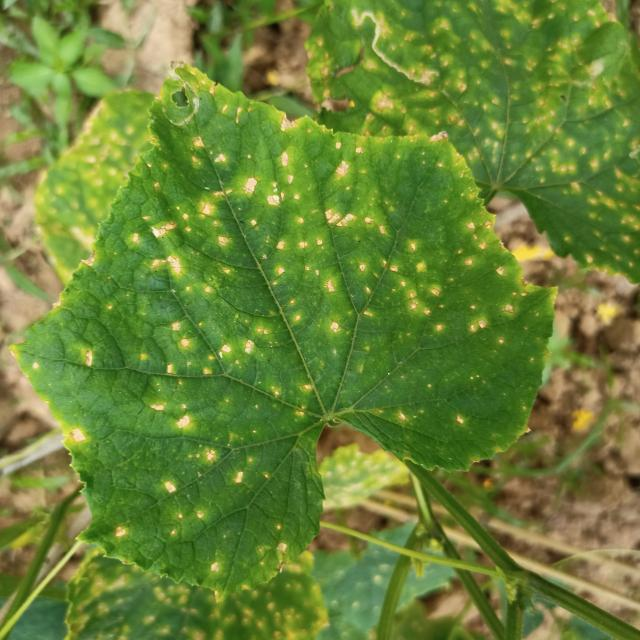disease_cucumber: (62, 128, 538, 445), (154, 447, 293, 577), (113, 519, 132, 540)
